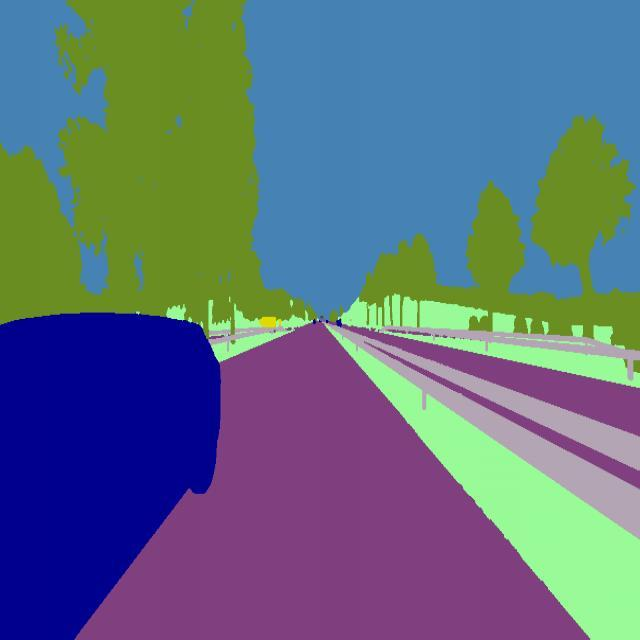unsafe: (0, 302, 222, 640)
